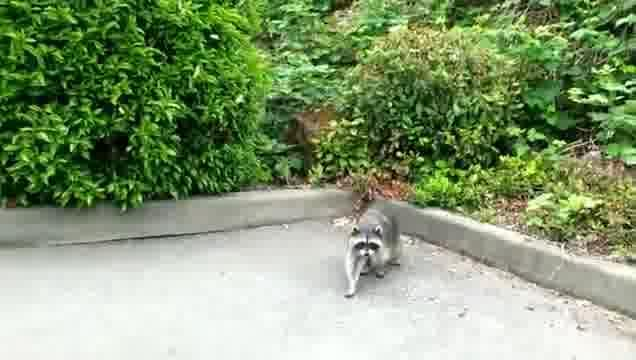raccoon: (335, 205, 410, 297)
